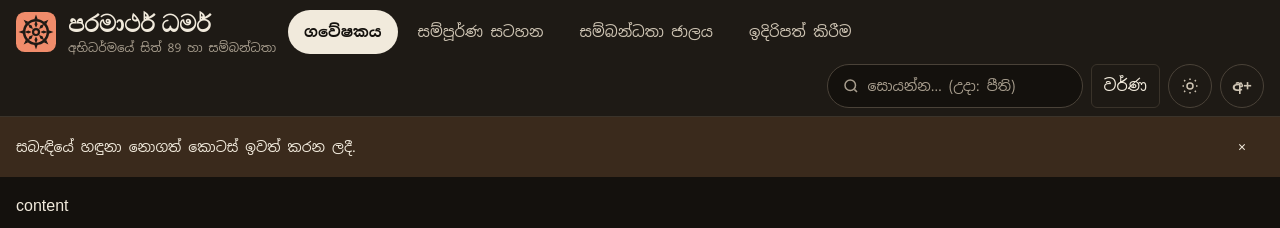
Test: AppShell › shows and dismisses the invalid-link notice
Expected: the message shows "සබැඳියේ", [16,138,356,156]
What coordinates should you click on to do the following:
click the button named "දැනුම්දීම වසන්න"
I would click on:
 (1242, 147)
Its box is [1220,125,1264,169].
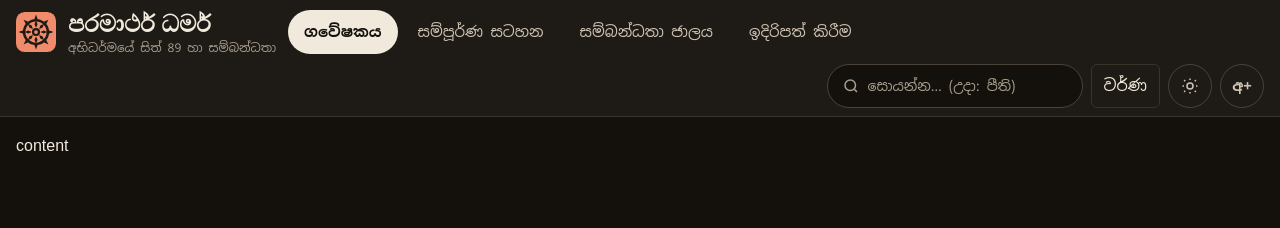
Expected: the message "සබැඳියේ හඳුනා නොගත් කොටස් ඉවත් කරන ලදී. ×" is gone
